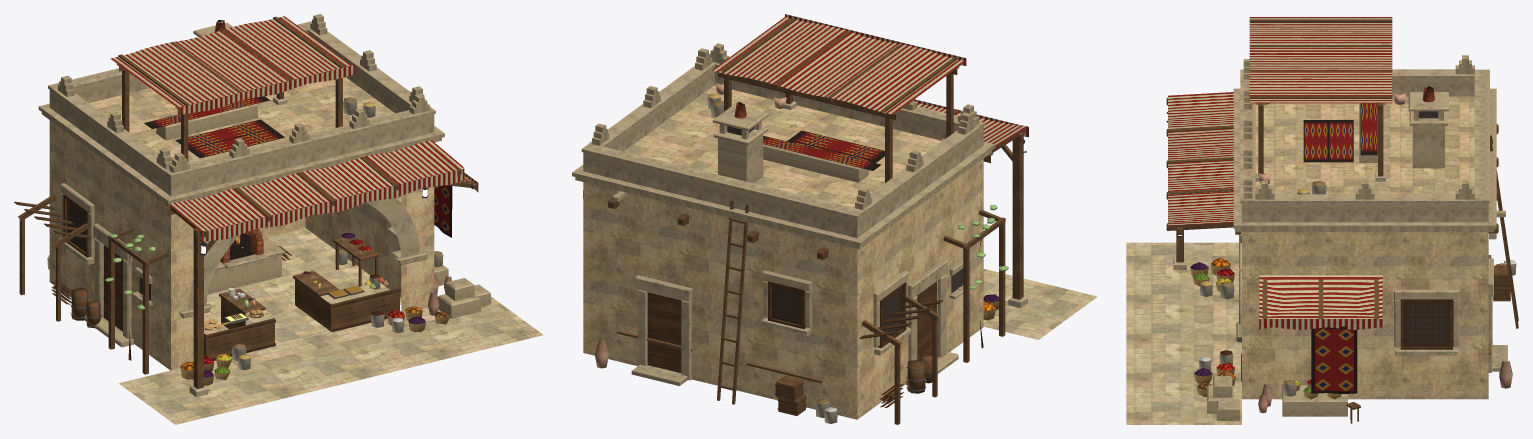
Rendered from food-v5-lite.glb.
3 renders of one model, left to right at view 1: azimuth 30°, elevation 25°; view 2: azimuth 150°, elevation 25°; view 3: azimuth 270°, elevation 25°, orthographic. The views are drawn at different scales.
Parts seen in each view (by area): view 1: Building, FoodAndProps; view 2: Building, FoodAndProps; view 3: Building, FoodAndProps.
Boxes of the visible parts, bbox=[...] form: Building: bbox=[14, 14, 543, 424]; FoodAndProps: bbox=[47, 97, 451, 385]; Building: bbox=[572, 14, 1097, 424]; FoodAndProps: bbox=[595, 83, 1026, 423]; Building: bbox=[1126, 17, 1518, 424]; FoodAndProps: bbox=[1166, 93, 1516, 423].
Size of what is drawn, in the model's own units: 11.21 by 7.51 by 10.18.
Materials: 19 (14 with a texture image).
